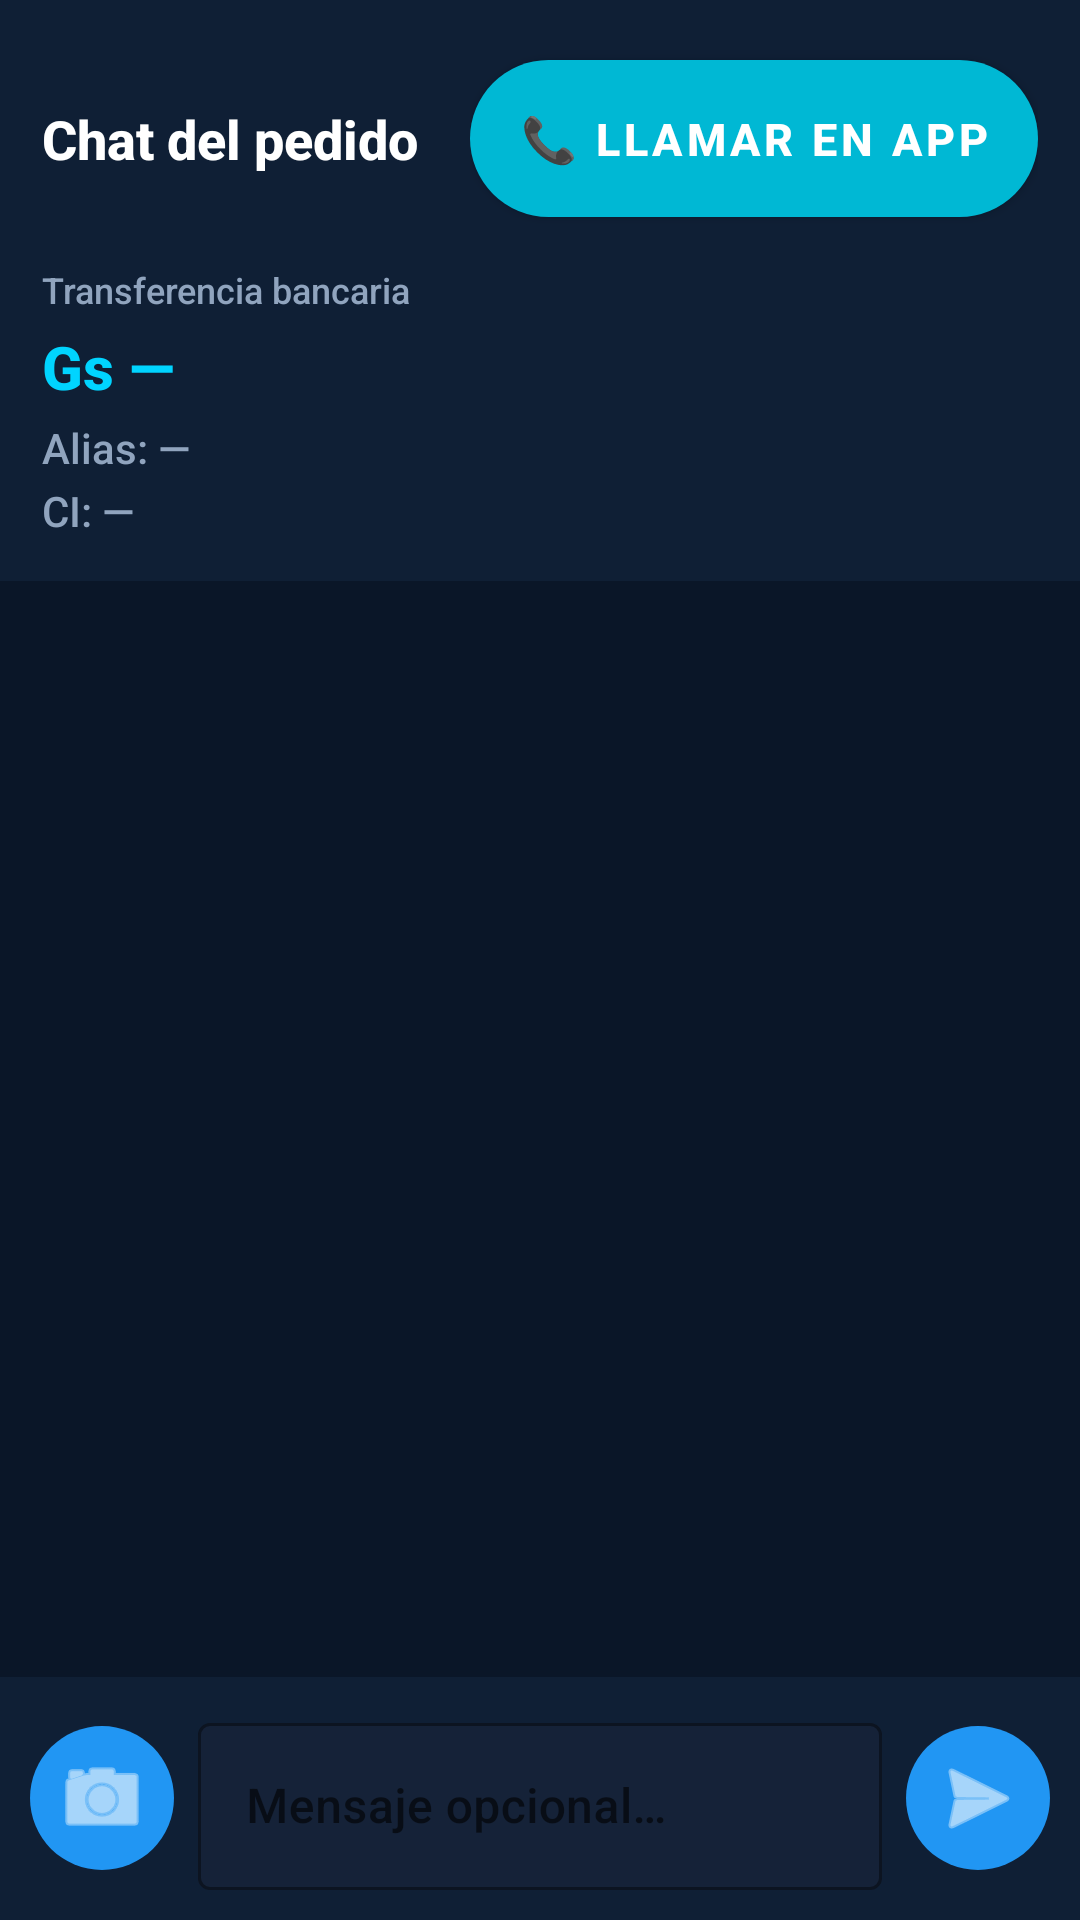

Screen size 1080x1920. Icon name, then its box in pixels as (x1=x1, y1=y1, x2=x2, y2=y2):
Enviar: (x1=906, y1=1726, x2=1050, y2=1870)
